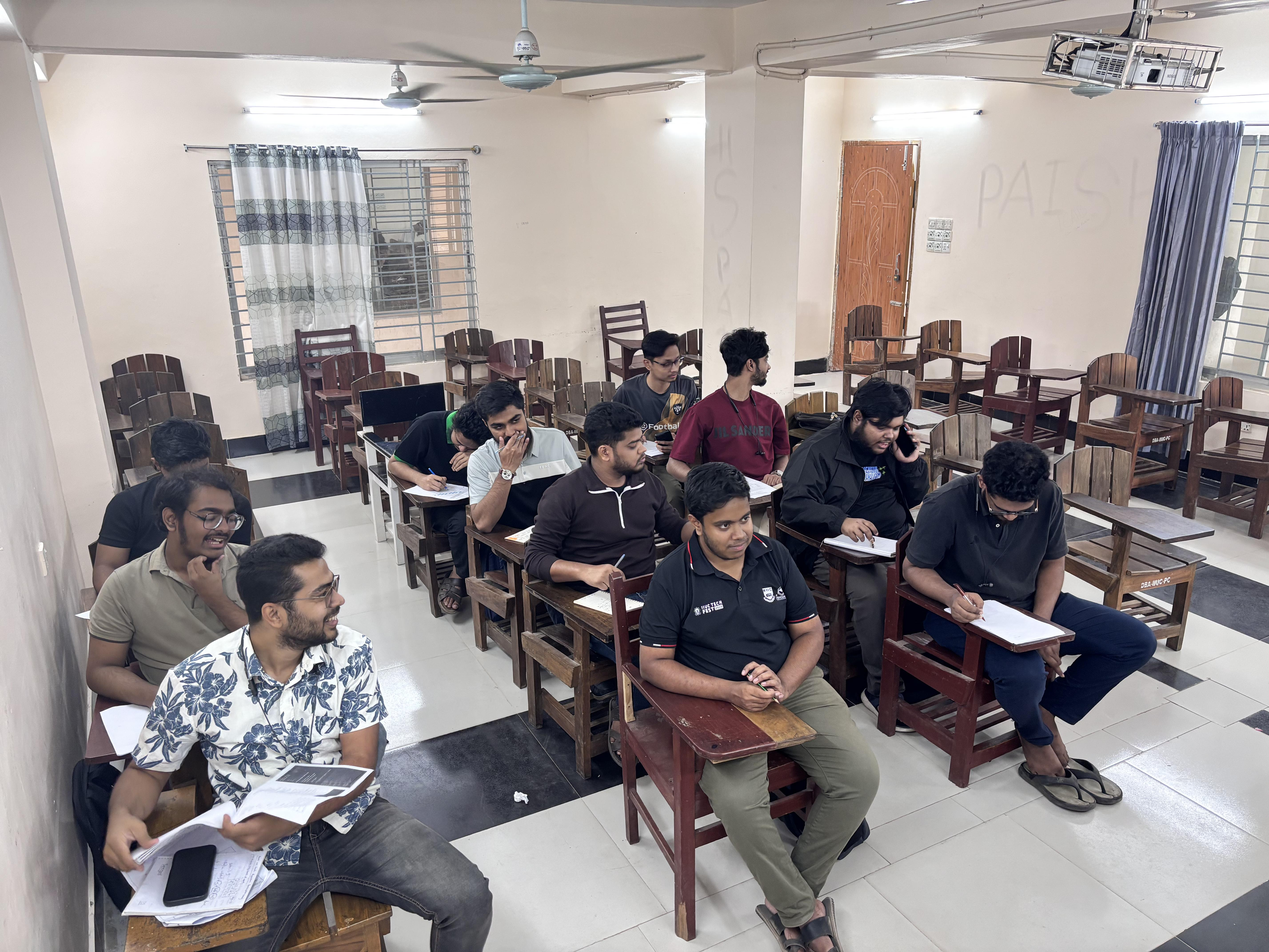copying: (532, 408, 682, 625)
no_cheating: (902, 445, 1190, 709), (644, 492, 843, 810), (381, 390, 498, 529)
side_talking: (116, 543, 443, 952), (91, 488, 264, 750), (678, 318, 798, 496), (595, 308, 720, 461)
suspicious_moving: (465, 372, 584, 544)
using_phone: (773, 369, 954, 565)
